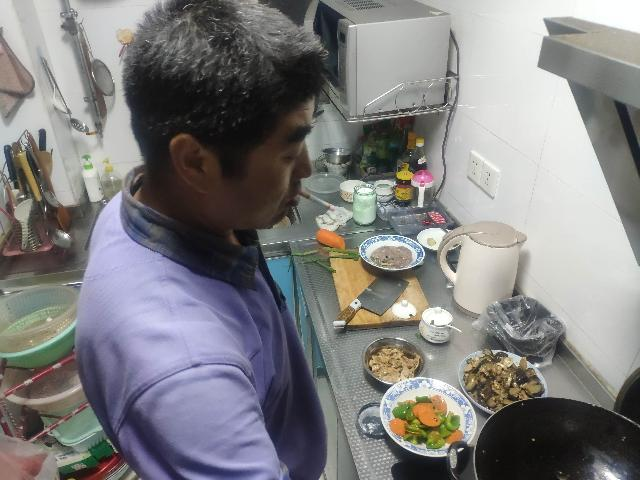Smoking: (299, 191, 335, 212)
